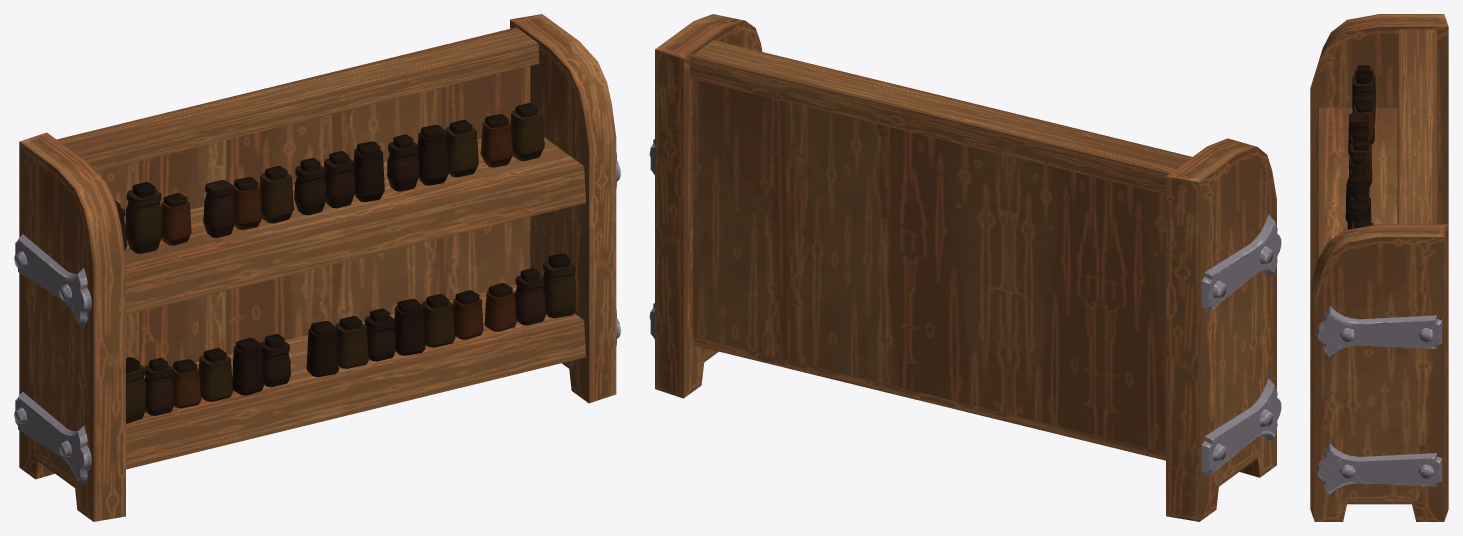
File: Shelf_Small_Bottles.gltf
3 views of the same model, side by side, from view 1: azimuth 30°, elevation 25°; view 2: azimuth 150°, elevation 25°; view 3: azimuth 270°, elevation 25° (orthographic). The views are drawn at different scales.
Parts seen in each view (by area): view 1: Shelf_Small_Bottles; view 2: Shelf_Small_Bottles; view 3: Shelf_Small_Bottles.
Part boxes in pixels (x1,y1,x2,y2): Shelf_Small_Bottles: (14, 14, 620, 521); Shelf_Small_Bottles: (649, 14, 1281, 521); Shelf_Small_Bottles: (1310, 14, 1448, 521).
Size of the model in its own units: 1.14 by 0.6474 by 0.2846.
3 materials, 3 textured.
